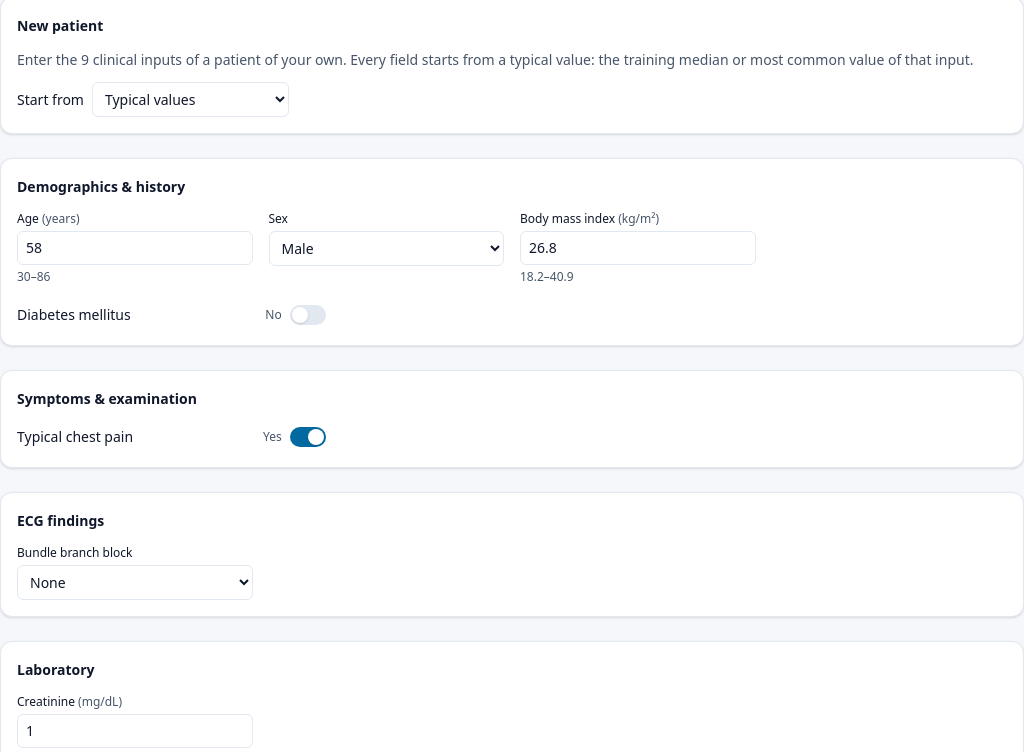
it: New patient page (F2) › fills the form from a sample patient and back from typical values
Replace the text in the number field labelled "Age (years)" with "80" at (135, 248), box [17,231,252,265]
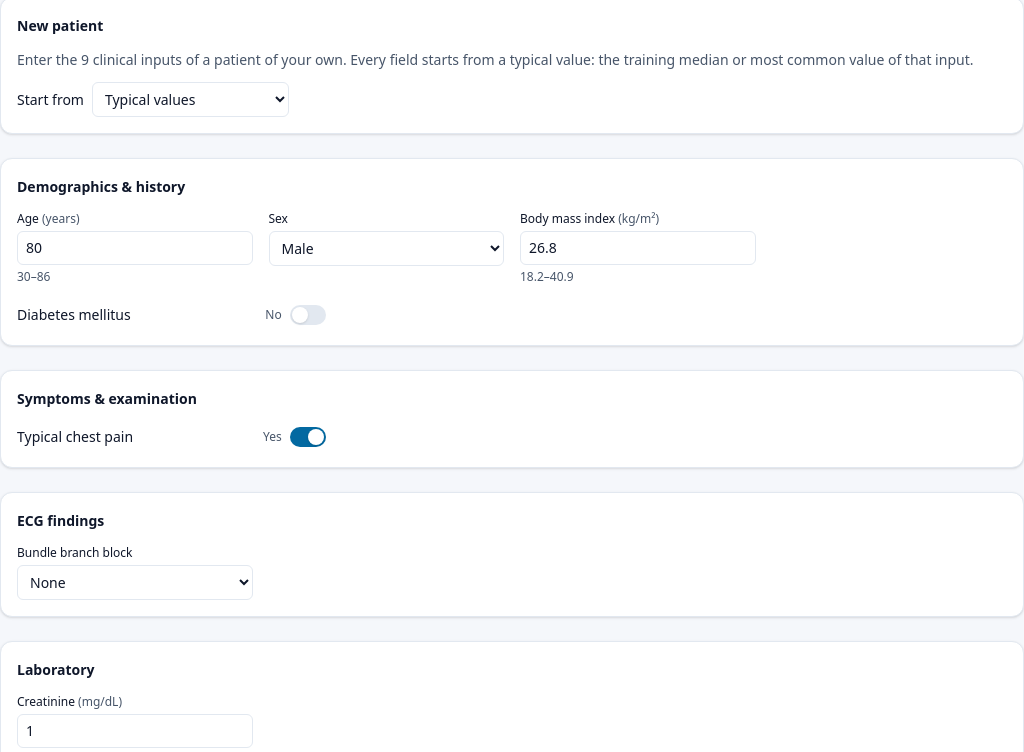
Select "Sample B (71 y · Female)" in the dropdown labelled "Start from" at (190, 100), box [92,82,289,117]
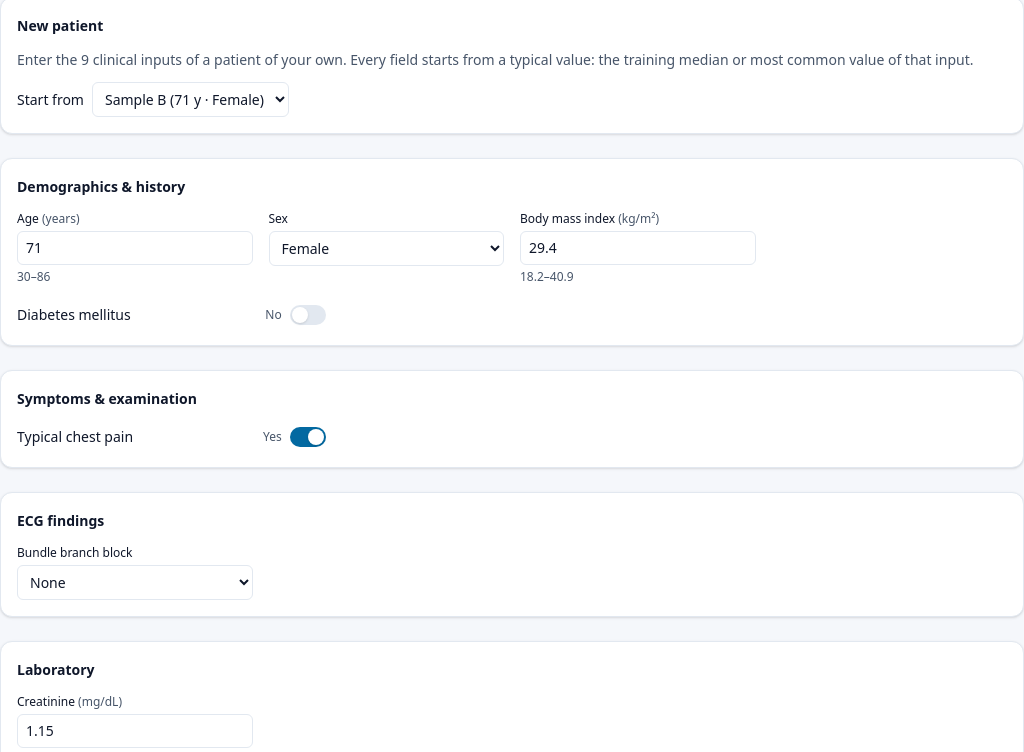
Check: the number field labelled "Age (years)" holds "71", box [17,231,252,265]
Check: the dropdown labelled "Sex" shows "Female", box [268,231,504,266]
Check: the number field labelled "Creatinine (mg/dL)" holds "1.15", box [17,714,252,748]
Select "Typical values" in the dropdown labelled "Start from" at (190, 100), box [92,82,289,117]
(page scrolled)
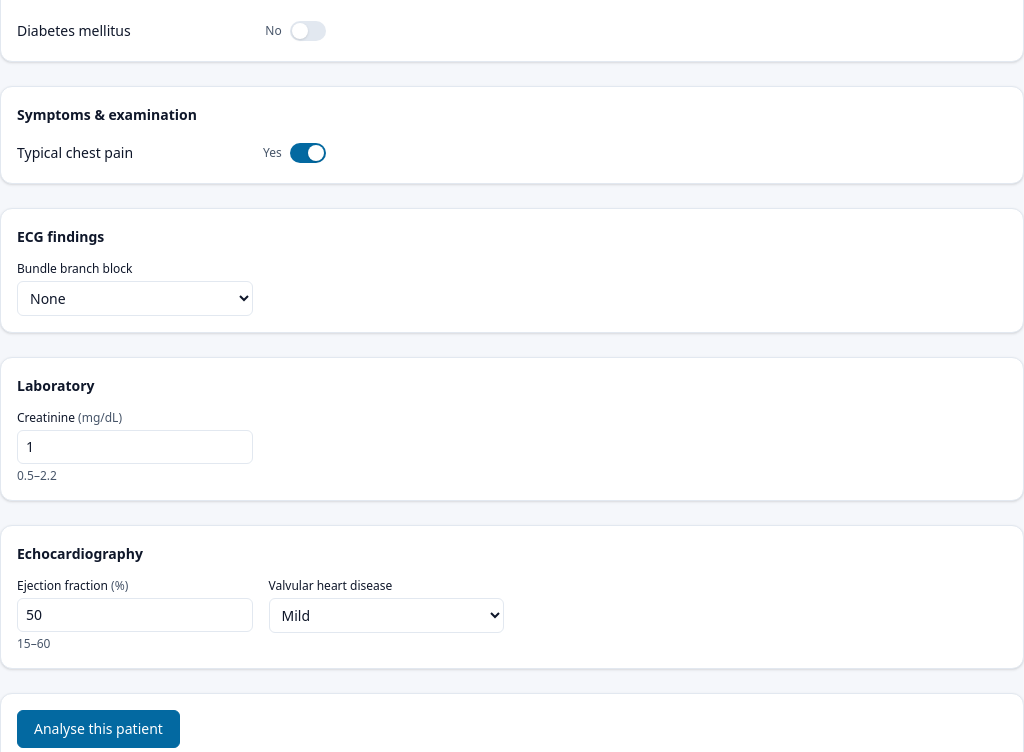
Check: the number field labelled "Ejection fraction (%)" holds "50", box [17,598,252,632]
